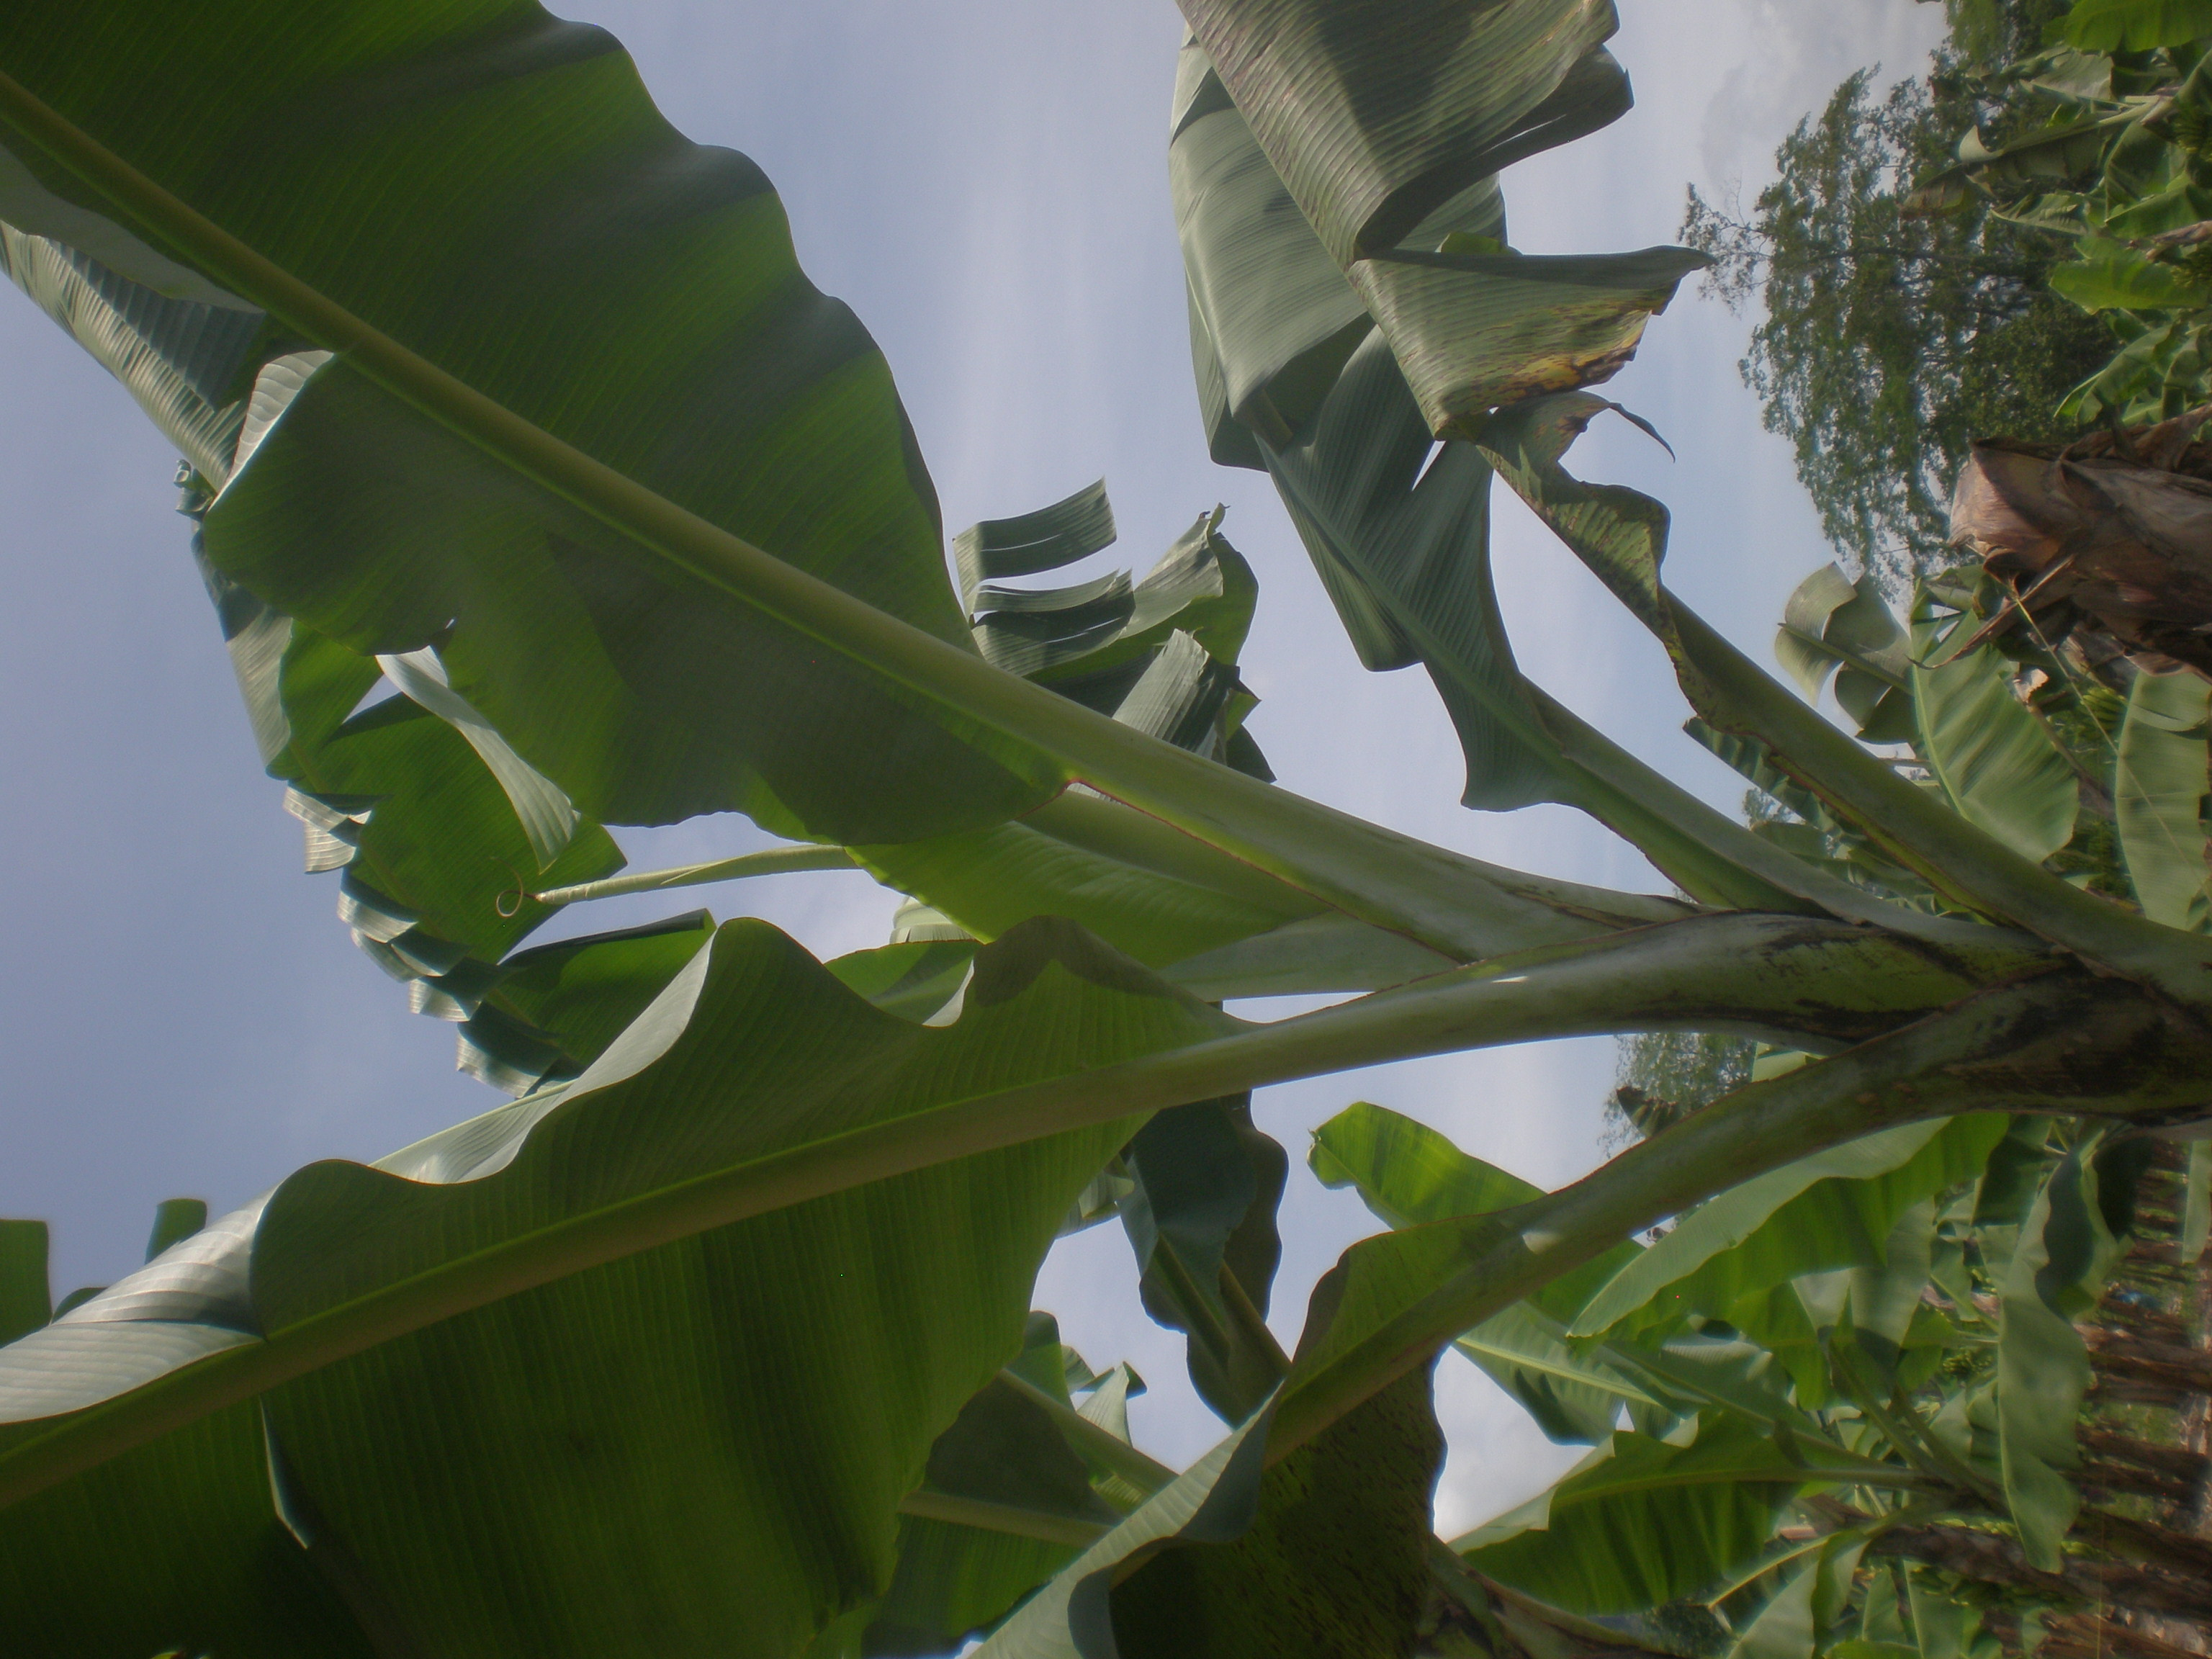candleleafs: (543, 845, 857, 920)
